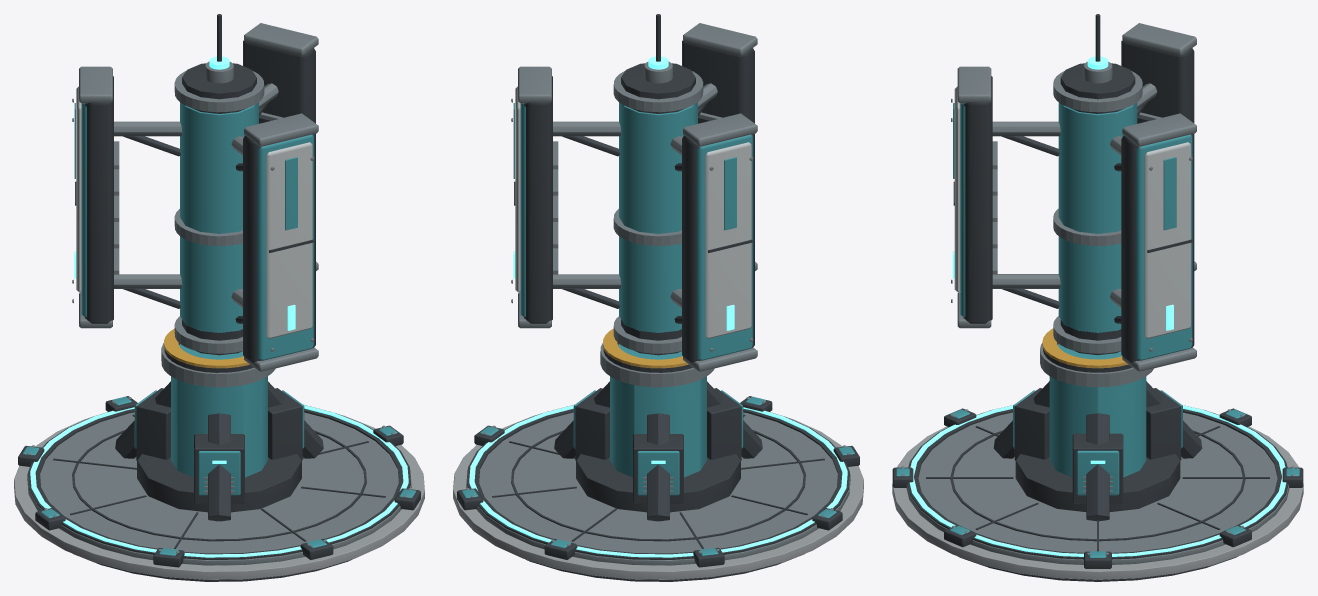
File: relay-tower-normal.glb
3 views of the same model, side by side, from view 1: azimuth 30°, elevation 25°; view 2: azimuth 150°, elevation 25°; view 3: azimuth 270°, elevation 25° (orthographic).
Visible parts, largest first — view 1: modelRoot:neutral-metal, modelRoot:structure, antennaYaw:team-primary, antennaYaw:structure, antennaYaw:neutral-metal, modelRoot:team-primary, antennaYaw:armor, modelRoot:foundation-concrete, modelRoot:team-emissive, modelRoot:warning, antennaYaw:team-emissive; view 2: modelRoot:neutral-metal, modelRoot:structure, antennaYaw:team-primary, antennaYaw:structure, antennaYaw:neutral-metal, modelRoot:team-primary, antennaYaw:armor, modelRoot:foundation-concrete, modelRoot:team-emissive, modelRoot:warning, antennaYaw:team-emissive; view 3: modelRoot:neutral-metal, modelRoot:structure, antennaYaw:team-primary, antennaYaw:structure, antennaYaw:neutral-metal, modelRoot:team-primary, antennaYaw:armor, modelRoot:foundation-concrete, modelRoot:team-emissive, modelRoot:warning, antennaYaw:team-emissive.
Boxes of the visible parts, bbox=[...] form: modelRoot:neutral-metal: bbox=[27, 343, 411, 565]; modelRoot:structure: bbox=[18, 343, 420, 581]; antennaYaw:team-primary: bbox=[74, 102, 314, 360]; antennaYaw:structure: bbox=[75, 14, 315, 362]; antennaYaw:neutral-metal: bbox=[72, 23, 318, 371]; modelRoot:team-primary: bbox=[23, 344, 415, 555]; antennaYaw:armor: bbox=[76, 86, 312, 338]; modelRoot:foundation-concrete: bbox=[14, 415, 424, 579]; modelRoot:team-emissive: bbox=[30, 405, 408, 557]; modelRoot:warning: bbox=[164, 328, 249, 368]; antennaYaw:team-emissive: bbox=[74, 56, 295, 330]; modelRoot:neutral-metal: bbox=[466, 343, 850, 565]; modelRoot:structure: bbox=[457, 343, 859, 581]; antennaYaw:team-primary: bbox=[513, 102, 753, 360]; antennaYaw:structure: bbox=[514, 14, 754, 362]; antennaYaw:neutral-metal: bbox=[511, 23, 757, 371]; modelRoot:team-primary: bbox=[462, 344, 854, 555]; antennaYaw:armor: bbox=[515, 86, 751, 338]; modelRoot:foundation-concrete: bbox=[453, 415, 863, 579]; modelRoot:team-emissive: bbox=[469, 405, 847, 557]; modelRoot:warning: bbox=[603, 328, 688, 368]; antennaYaw:team-emissive: bbox=[513, 56, 734, 330]; modelRoot:neutral-metal: bbox=[901, 343, 1294, 564]; modelRoot:structure: bbox=[892, 343, 1303, 581]; antennaYaw:team-primary: bbox=[953, 102, 1192, 360]; antennaYaw:structure: bbox=[953, 14, 1194, 362]; antennaYaw:neutral-metal: bbox=[951, 23, 1196, 371]; modelRoot:team-primary: bbox=[896, 343, 1299, 557]; antennaYaw:armor: bbox=[954, 86, 1190, 338]; modelRoot:foundation-concrete: bbox=[892, 412, 1303, 579]; modelRoot:team-emissive: bbox=[909, 405, 1286, 556]; modelRoot:warning: bbox=[1042, 328, 1128, 368]; antennaYaw:team-emissive: bbox=[952, 56, 1173, 330].
Size of the model in its own units: 3.4 by 4.42 by 3.4.
